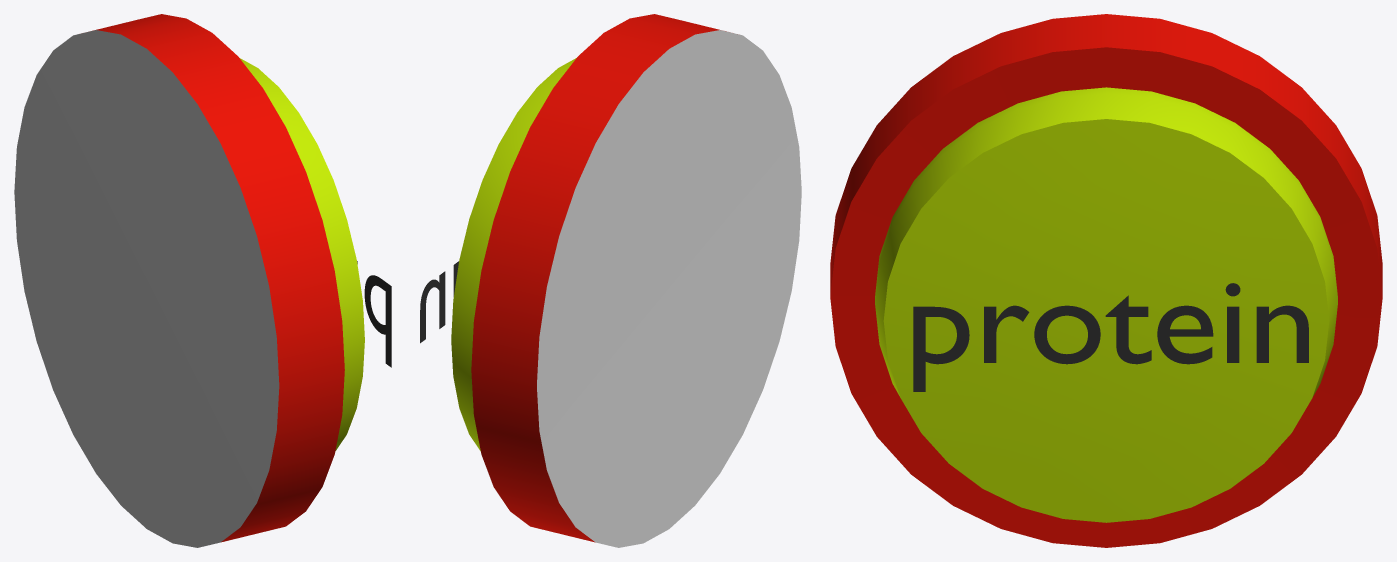
File: protein button.gltf
3 renders of one model, left to right at view 1: azimuth 30°, elevation 25°; view 2: azimuth 150°, elevation 25°; view 3: azimuth 270°, elevation 25°, orthographic. The views are drawn at different scales.
Parts seen in each view (by area): view 1: Cylinder.001, Text.001; view 2: Cylinder.001, Text.001; view 3: Cylinder.001, Text.001.
Boxes of the visible parts, bbox=[...] form: Cylinder.001: bbox=[14, 14, 364, 547]; Text.001: bbox=[357, 261, 391, 367]; Cylinder.001: bbox=[451, 14, 801, 547]; Text.001: bbox=[420, 261, 458, 343]; Cylinder.001: bbox=[830, 14, 1382, 547]; Text.001: bbox=[913, 283, 1308, 391].
Size of the model in its own units: 1.55 by 4.69 by 4.69.
